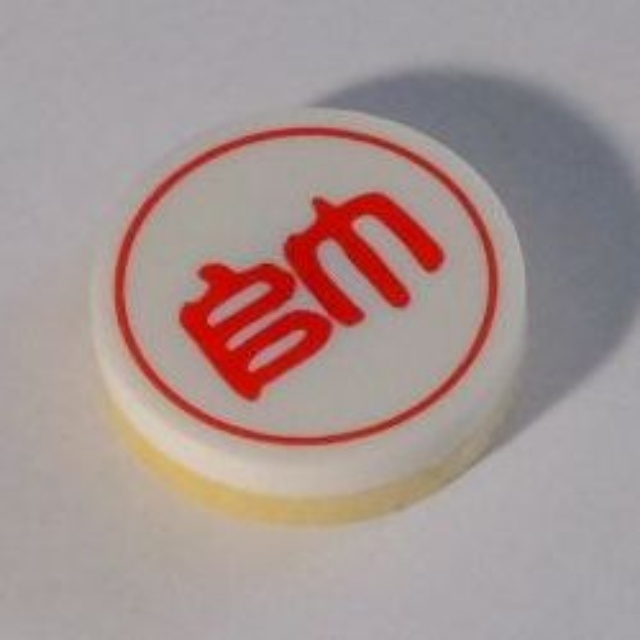red_tuong: (77, 99, 542, 530)
